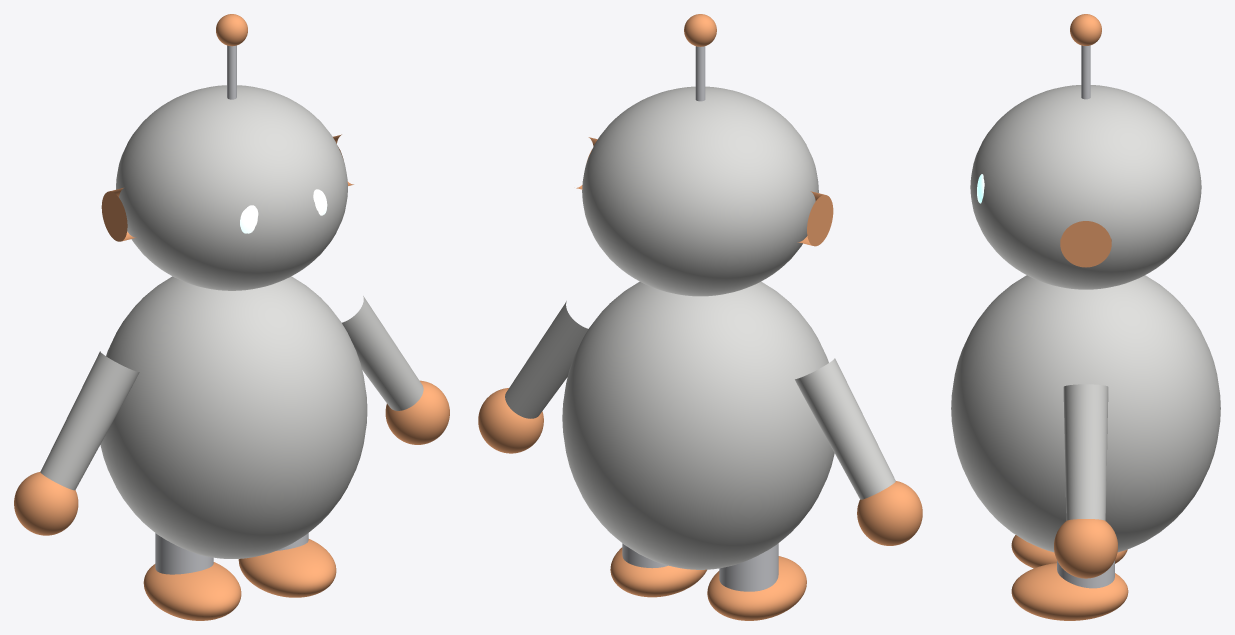
File: Pip.glb
3 renders of one model, left to right at view 1: azimuth 30°, elevation 25°; view 2: azimuth 150°, elevation 25°; view 3: azimuth 270°, elevation 25°, orthographic. The views are drawn at different scales.
Parts seen in each view (by area): view 1: Body, Head, ArmL, FootL, ArmR, FootR, HandL, HandR, LegL, EarL, AntennaTip; view 2: Body, Head, ArmL, ArmR, FootL, HandL, HandR, FootR, LegL, EarL, AntennaTip, Antenna; view 3: Body, Head, ArmR, FootR, HandR, EarR, FootL, AntennaTip, LegR, Antenna.
Boxes of the visible parts, box(x1,y1,x2,y2) form: Body: box(100, 276, 367, 558); Head: box(116, 85, 347, 290); ArmL: box(40, 351, 139, 490); FootL: box(143, 562, 241, 620); ArmR: box(342, 296, 423, 410); FootR: box(238, 539, 336, 597); HandL: box(14, 472, 78, 535); HandR: box(385, 380, 449, 444); LegL: box(155, 533, 213, 574); EarL: box(101, 188, 136, 241); AntennaTip: box(216, 14, 247, 46); Body: box(562, 281, 834, 569); Head: box(582, 86, 818, 296); ArmL: box(795, 358, 895, 499); ArmR: box(505, 301, 588, 418); FootL: box(707, 556, 806, 620); HandL: box(857, 481, 922, 545); HandR: box(478, 388, 543, 453); FootR: box(610, 547, 706, 597); LegL: box(719, 543, 778, 591); EarL: box(797, 191, 833, 246); AntennaTip: box(684, 14, 716, 46); Antenna: box(695, 46, 705, 101); Body: box(951, 275, 1220, 552); Head: box(970, 85, 1201, 289); ArmR: box(1063, 384, 1108, 520); FootR: box(1011, 563, 1128, 620); HandR: box(1054, 519, 1117, 578); EarR: box(1060, 221, 1111, 267); FootL: box(1011, 535, 1127, 568); AntennaTip: box(1070, 14, 1101, 45); LegR: box(1057, 560, 1114, 588); Antenna: box(1081, 45, 1090, 99).
Bounding box in the file's own units: 1.53 × 1.98 × 0.84.
